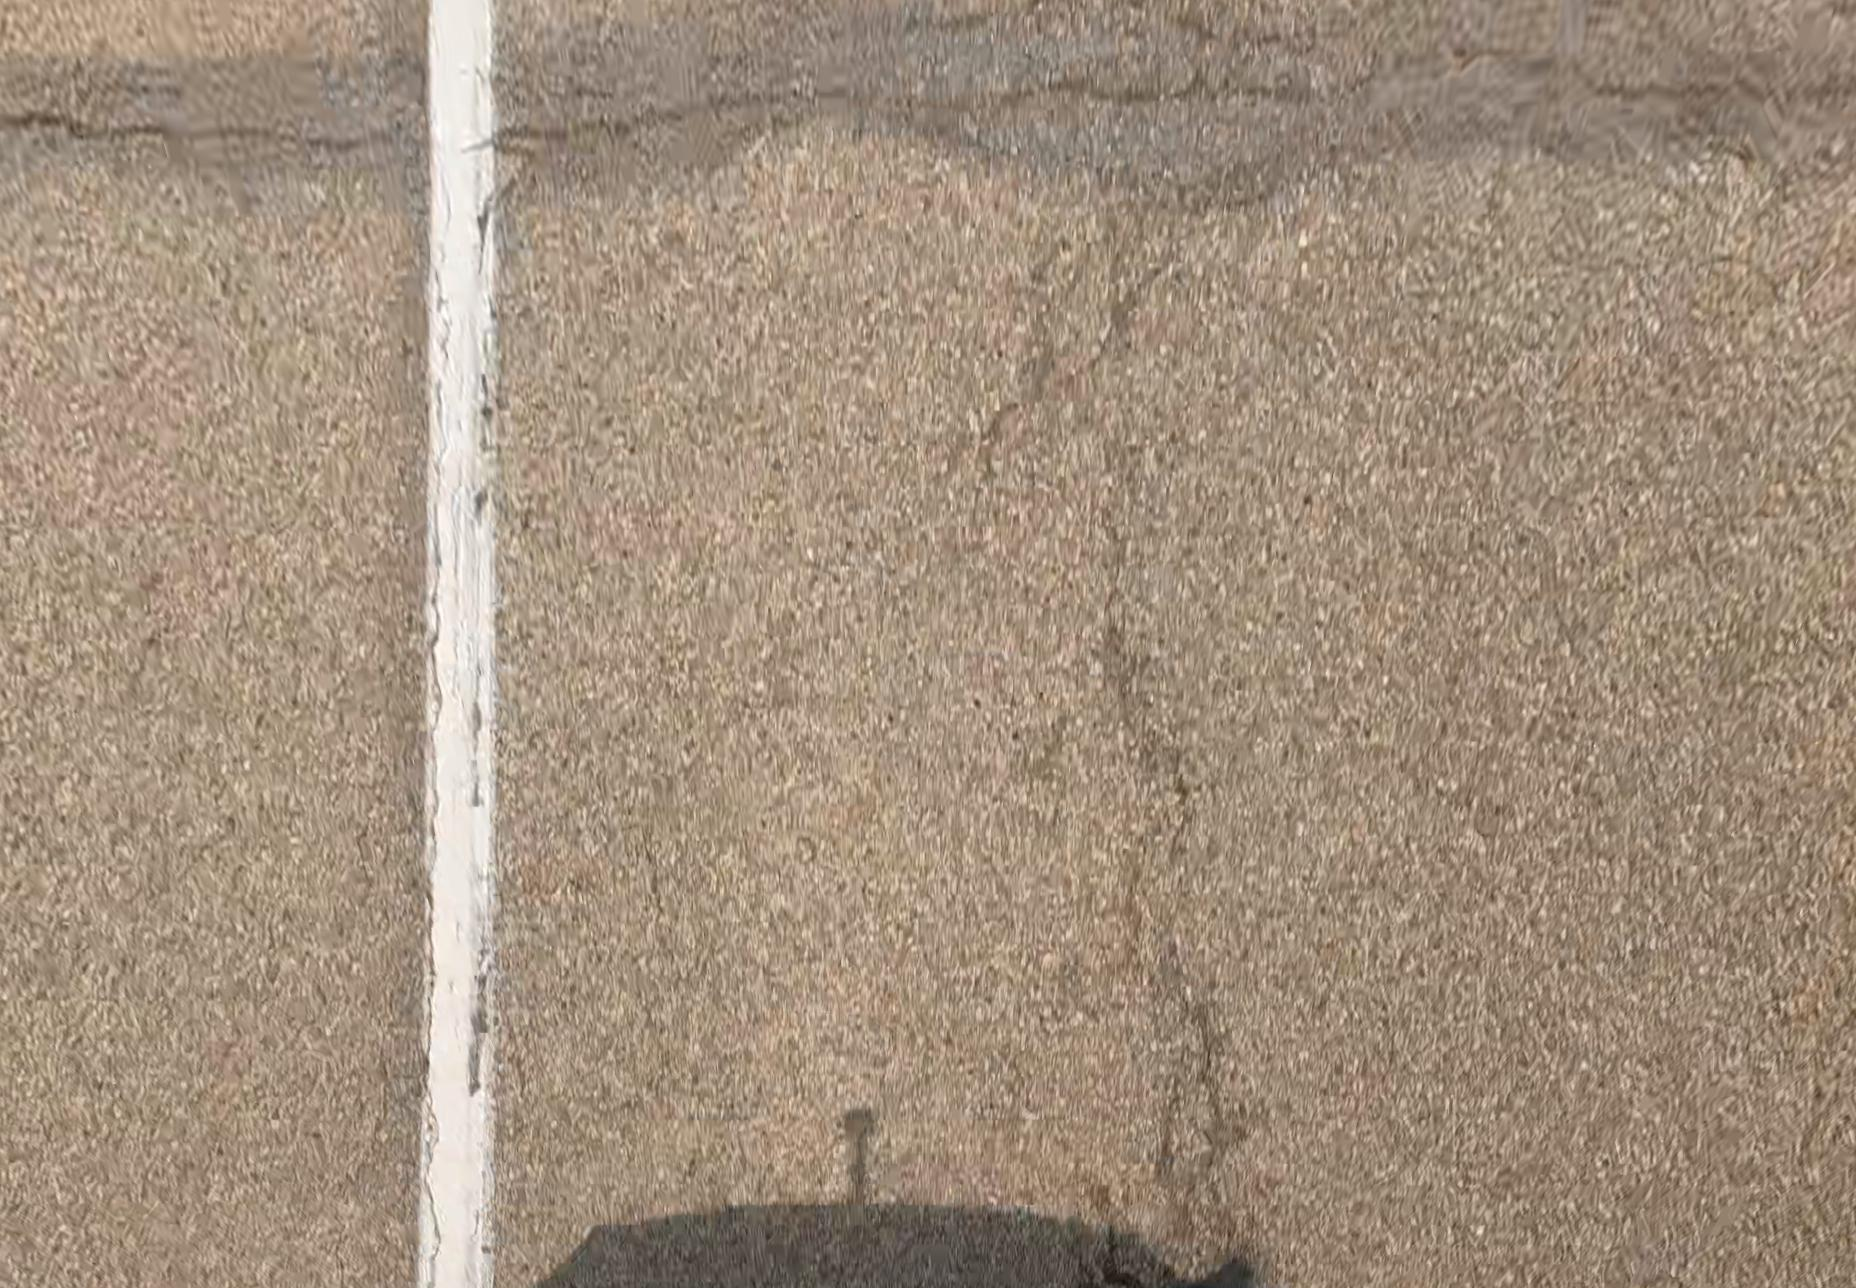pothole_patch_poor: (0, 0, 1856, 216)
